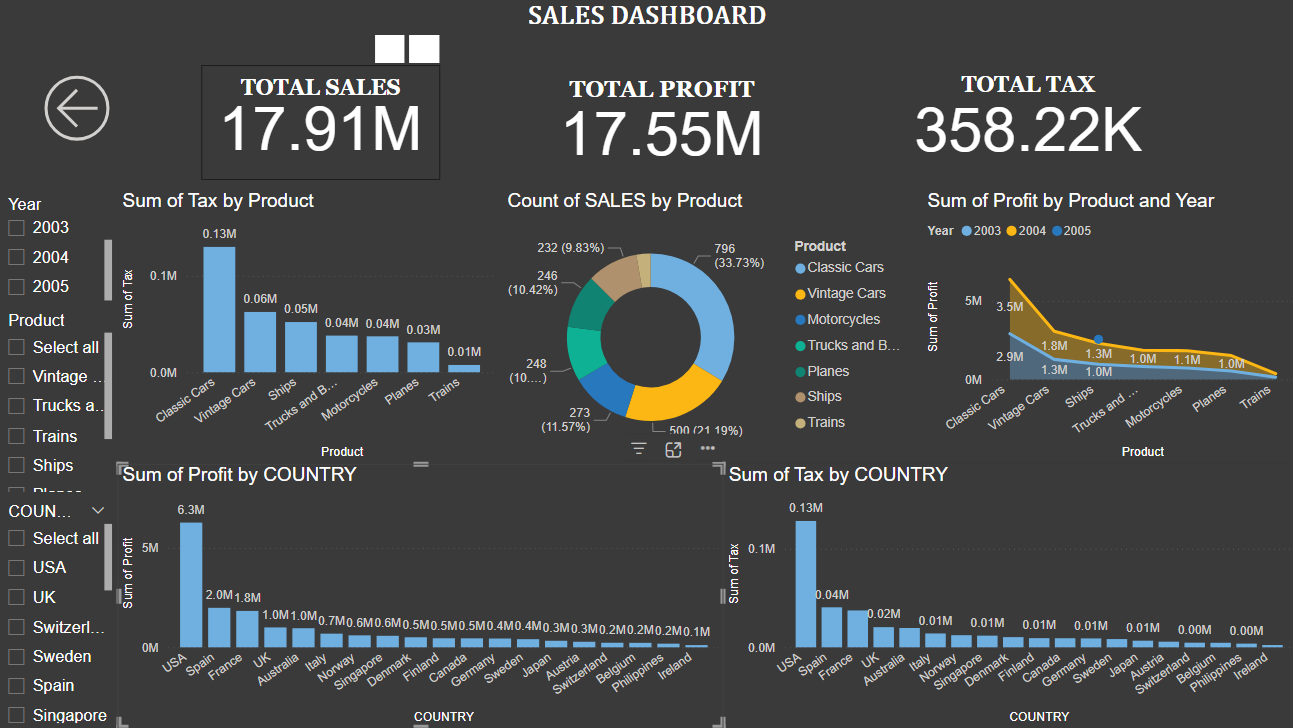

This screenshot's page, from the dashboard's own definition file:
{"tool":"powerbi","page":{"name":"Page 1","canvas":[1280,720],"ordinal":0},"visuals":[{"type":"clusteredColumnChart","fields":{"Category":["Sheet1.COUNTRY"],"Y":["Sum(Sheet1.Profit)"]},"box":[120,460,595.7,260],"z":0},{"type":"donutChart","fields":{"Category":["Sheet1.Product"],"Y":["Count(Sheet1.SALES)"]},"box":[498.2,191.4,412.3,268.7],"z":1000},{"type":"columnChart","fields":{"Category":["Sheet1.Product"],"Y":["Sum(Sheet1.Tax)"]},"box":[120.2,191.4,377.9,268.7],"z":2000},{"type":"stackedAreaChart","fields":{"Category":["Sheet1.Product"],"Y":["Sum(Sheet1.Profit)"],"Series":["Sheet1.Year"]},"box":[910.4,191.4,369.3,268.7],"z":3000},{"type":"columnChart","fields":{"Category":["Sheet1.COUNTRY"],"Y":["Sum(Sheet1.Tax)"]},"box":[715.7,460,564.3,260],"z":4000},{"type":"slicer","fields":{"Values":["Sheet1.Product"]},"box":[0,305.7,120,187.1],"z":5000},{"type":"slicer","fields":{"Values":["Sheet1.COUNTRY"]},"box":[0,493.3,120.2,227],"z":6000},{"type":"textbox","box":[0,0,1280,52.9],"z":7000},{"type":"slicer","fields":{"Values":["Sheet1.Year"]},"box":[0,191.4,120.2,114.1],"z":8000},{"type":"card","title":"TOTAL SALES","fields":{"Values":["Sum(Sheet1.SALES)"]},"box":[202.9,68.6,234.3,112.9],"z":9000},{"type":"card","title":"TOTAL PROFIT","fields":{"Values":["Sum(Sheet1.Profit)"]},"box":[537.1,68.6,234.3,112.9],"z":10000},{"type":"card","title":"TOTAL TAX ","fields":{"Values":["Sum(Sheet1.Tax)"]},"box":[897.1,70,234.3,112.9],"z":11000},{"type":"actionButton","box":[40,68.6,80,84.3],"z":12000}]}

Visuals, with their boxes in screenshot pixels (x1, y1, x2, y2), scaled from the page's 1280x720 canvas onto the 1293x728 screenshot:
clusteredColumnChart - Sheet1.COUNTRY x Sum(Sheet1.Profit): x1=121 y1=465 x2=723 y2=727
donutChart - Sheet1.Product x Count(Sheet1.SALES): x1=503 y1=194 x2=920 y2=465
columnChart - Sheet1.Product x Sum(Sheet1.Tax): x1=121 y1=194 x2=503 y2=465
stackedAreaChart - Sheet1.Product x Sum(Sheet1.Profit): x1=920 y1=194 x2=1292 y2=465
columnChart - Sheet1.COUNTRY x Sum(Sheet1.Tax): x1=723 y1=465 x2=1292 y2=727
slicer - Sheet1.Product: x1=0 y1=309 x2=121 y2=498
slicer - Sheet1.COUNTRY: x1=0 y1=499 x2=121 y2=727
textbox: x1=0 y1=0 x2=1292 y2=53
slicer - Sheet1.Year: x1=0 y1=194 x2=121 y2=309
"TOTAL SALES" card: x1=205 y1=69 x2=442 y2=184
"TOTAL PROFIT" card: x1=543 y1=69 x2=779 y2=184
"TOTAL TAX " card: x1=906 y1=71 x2=1143 y2=185
actionButton: x1=40 y1=69 x2=121 y2=155
